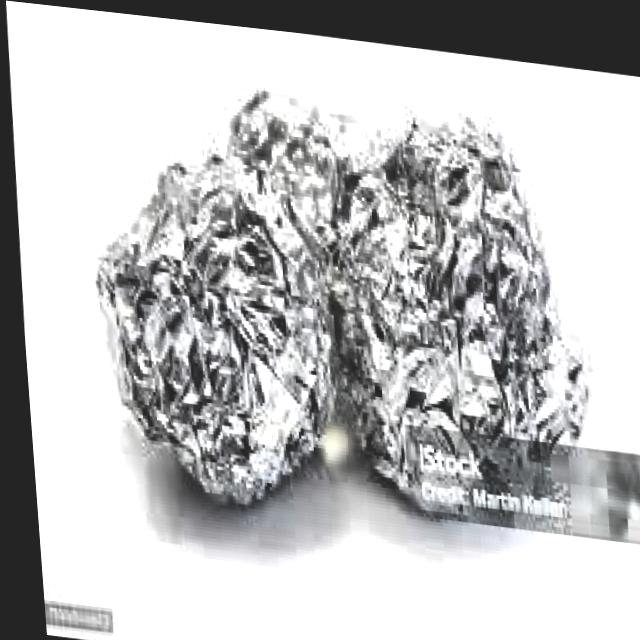Foil: (322, 77, 585, 520), (83, 111, 350, 524)
